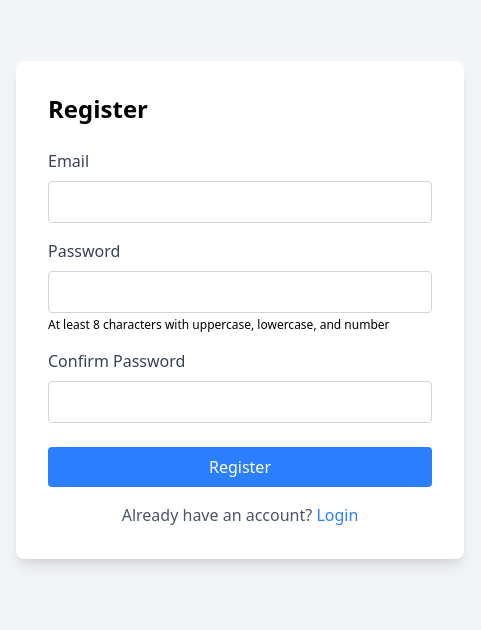
Test: RegisterPage › should show error when password is too weak
Type "test@example.com" into the field labelled "Email" at (240, 202), box x1=48 y1=181 x2=432 y2=223
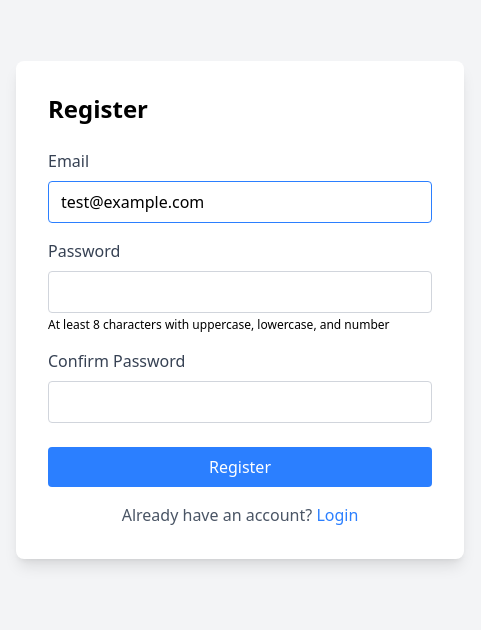
Type "weakpassword123" into the password field labelled "Password" at (240, 292), box x1=48 y1=271 x2=432 y2=313
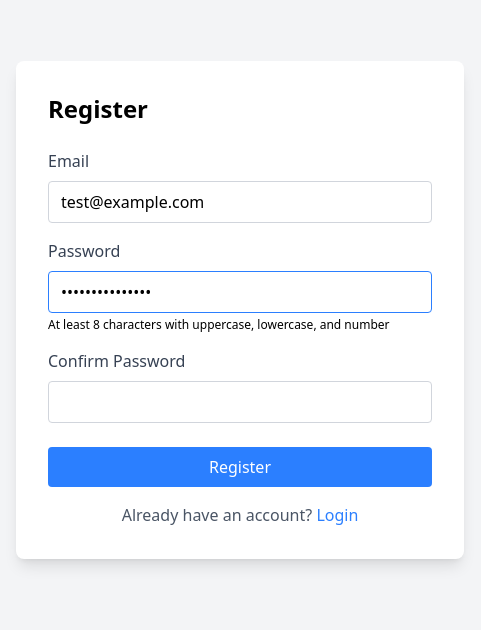
Type "weakpassword123" into the password field labelled "Confirm Password" at (240, 402), box x1=48 y1=381 x2=432 y2=423
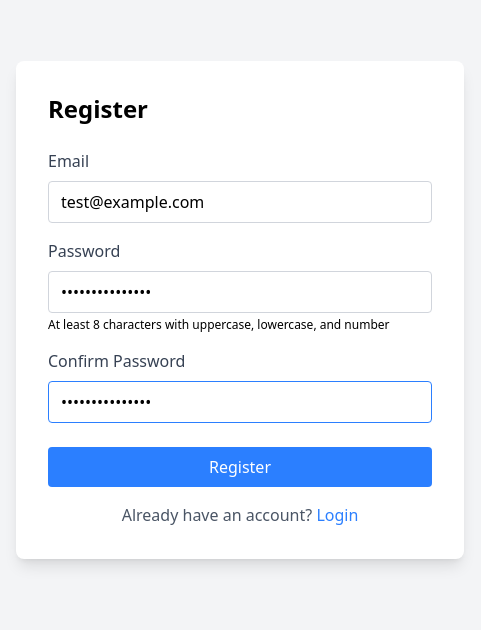
Click the button "Register" at (240, 467), box x1=48 y1=447 x2=432 y2=487
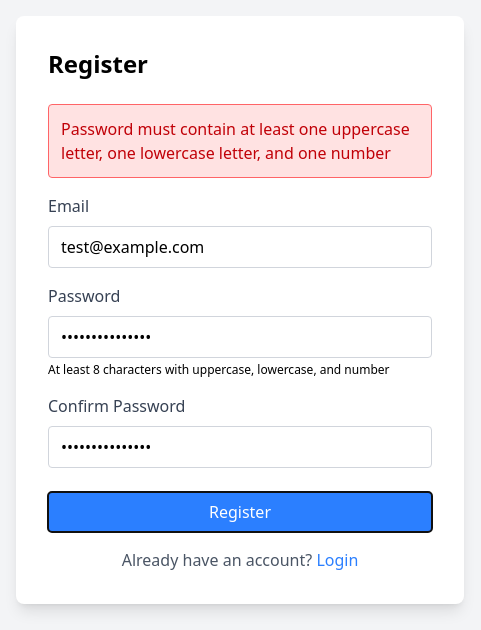
Now the text "password must contain at least one uppercase letter, one lowercase letter, and one number" is shown, box x1=61 y1=118 x2=410 y2=164
